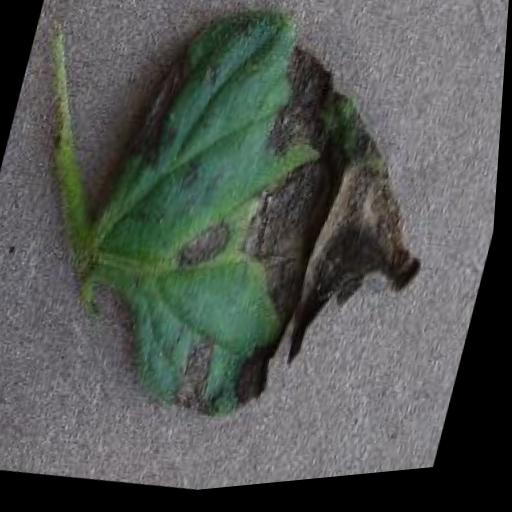Early Blight: (20, 0, 488, 476)
